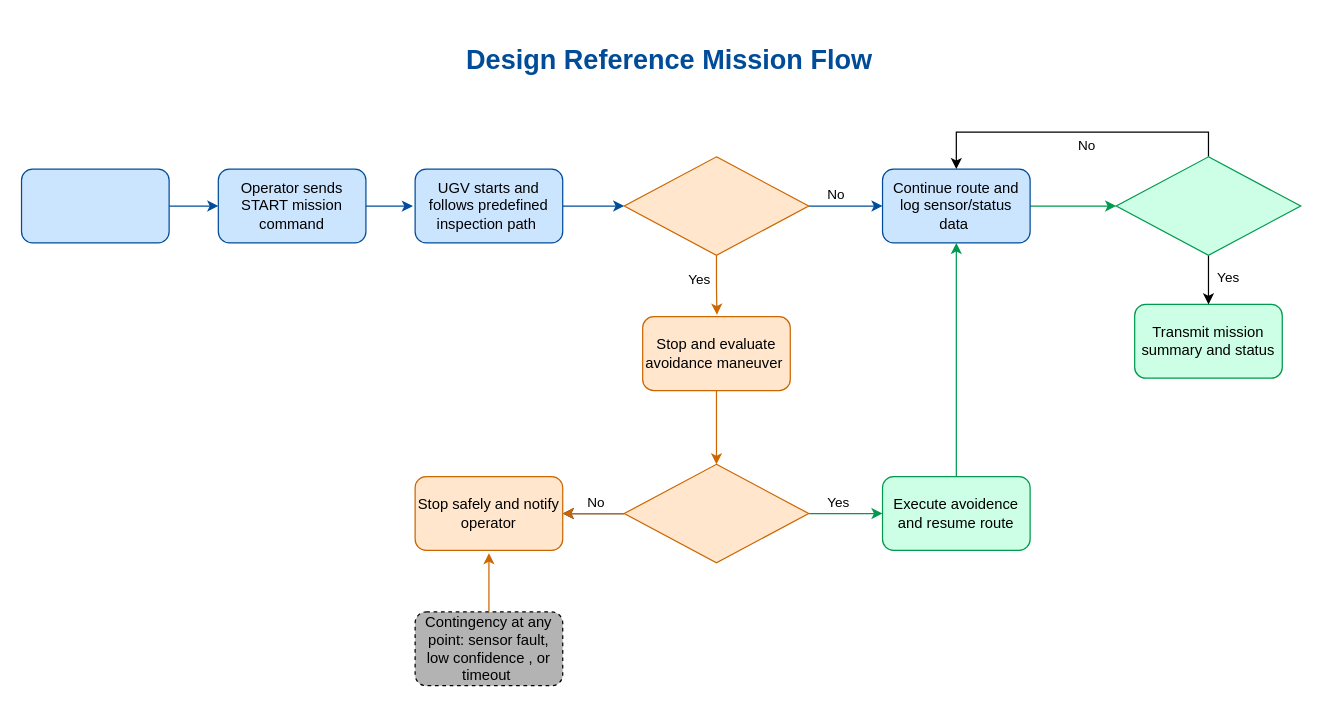
This 1322x707 diagram has some shape labels left out. Here are the shapes that lost their labels. From the top down, the centre of each, then its label:
At [94,205]: "Deploy UGV at corridor entrance".
At [716,205]: "Obstacle or hazard detected?".
At [1208,205]: "End point Reached ?".
At [716,513]: "Safe alternative".
